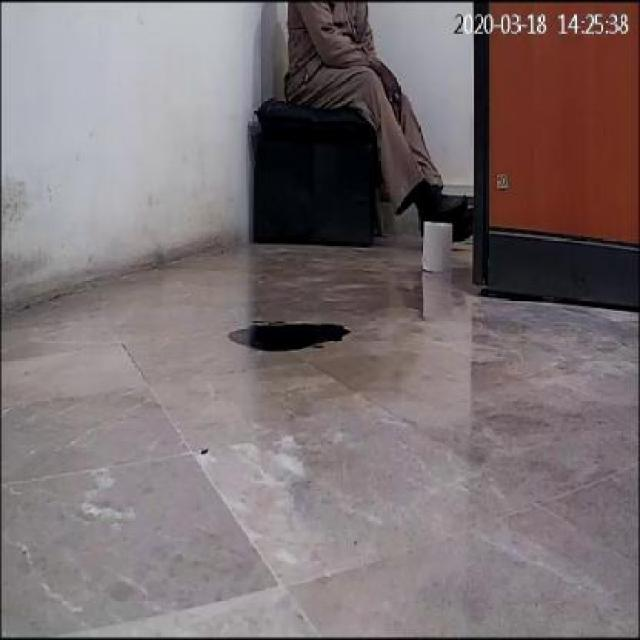spill: (229, 318, 346, 351)
